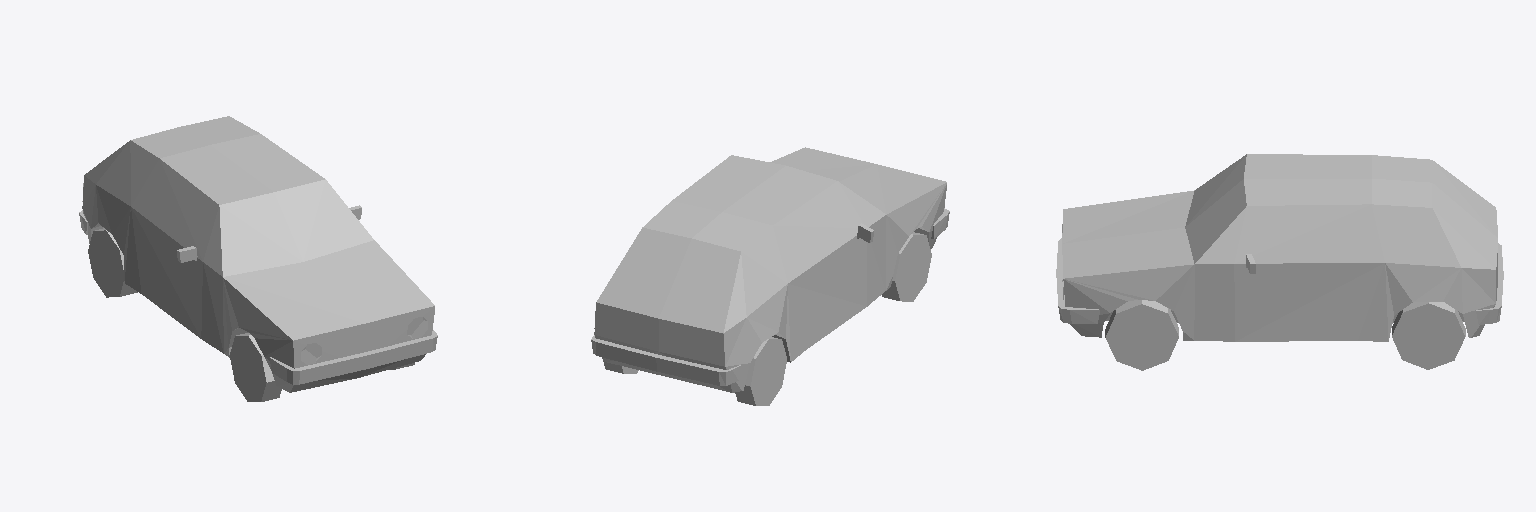
Rendered from Car3.obj.
The picture shows the model from 3 angles: view 1: azimuth 30°, elevation 25°; view 2: azimuth 150°, elevation 25°; view 3: azimuth 270°, elevation 25°; orthographic projection.
Parts seen in each view (by area): view 1: Car3, Headlights; view 2: Car3, Tail_lights; view 3: Car3.
Part boxes in pixels (left/top/right/bottom): Car3: left=79, top=116, right=437, bottom=401; Headlights: left=301, top=317, right=427, bottom=364; Car3: left=591, top=147, right=949, bottom=405; Tail_lights: left=594, top=311, right=724, bottom=360; Car3: left=1056, top=154, right=1503, bottom=370.
Bounding box in the file's own units: 2.65 × 2.14 × 5.61.